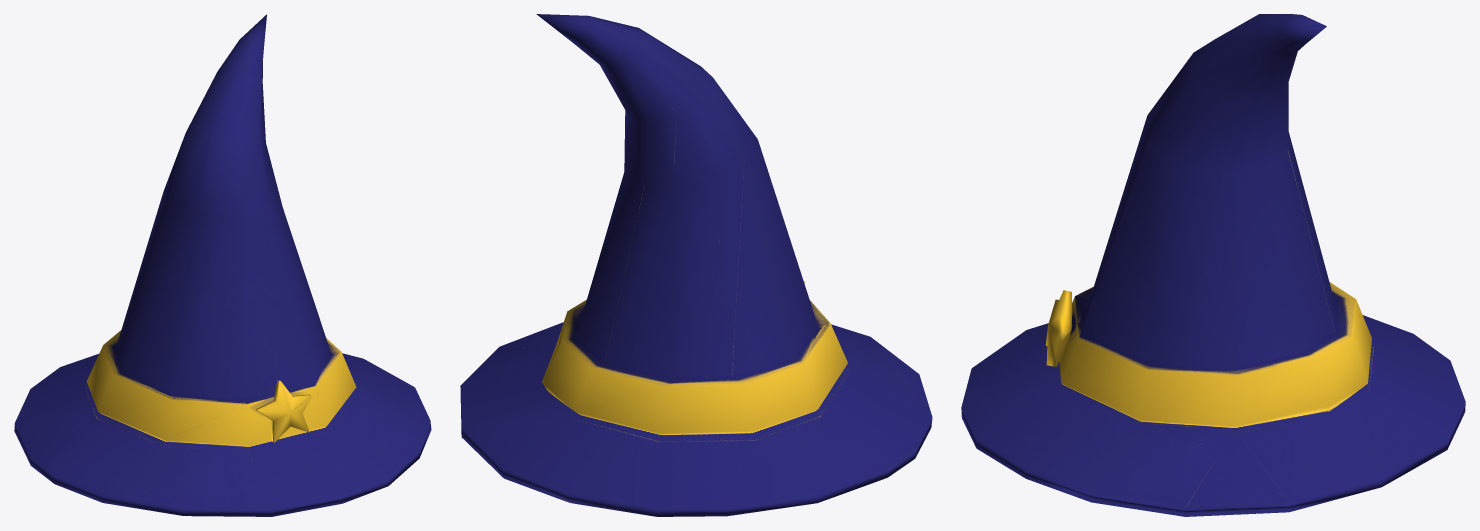
The model's file is head-mage.glb.
3 renders of one model, left to right at view 1: azimuth 30°, elevation 25°; view 2: azimuth 150°, elevation 25°; view 3: azimuth 270°, elevation 25°, orthographic. The views are drawn at different scales.
Bounding box in the file's own units: 0.9604 × 0.9238 × 0.9609.
1 material, 1 textured.
